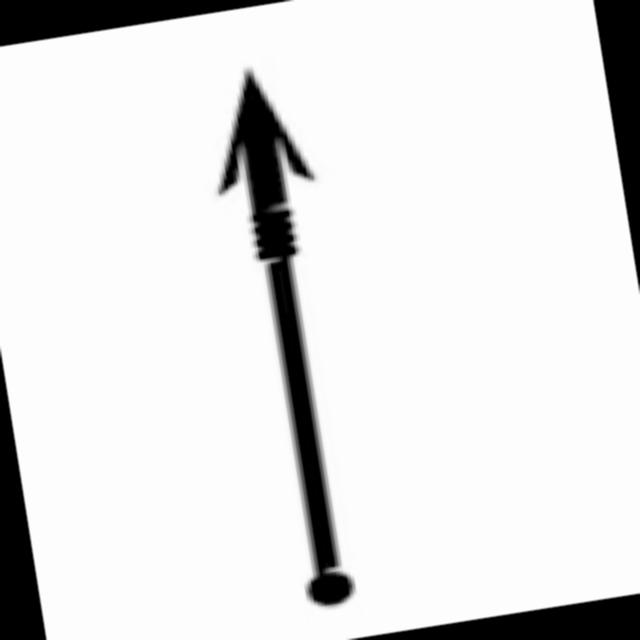spear: (195, 44, 395, 616)
